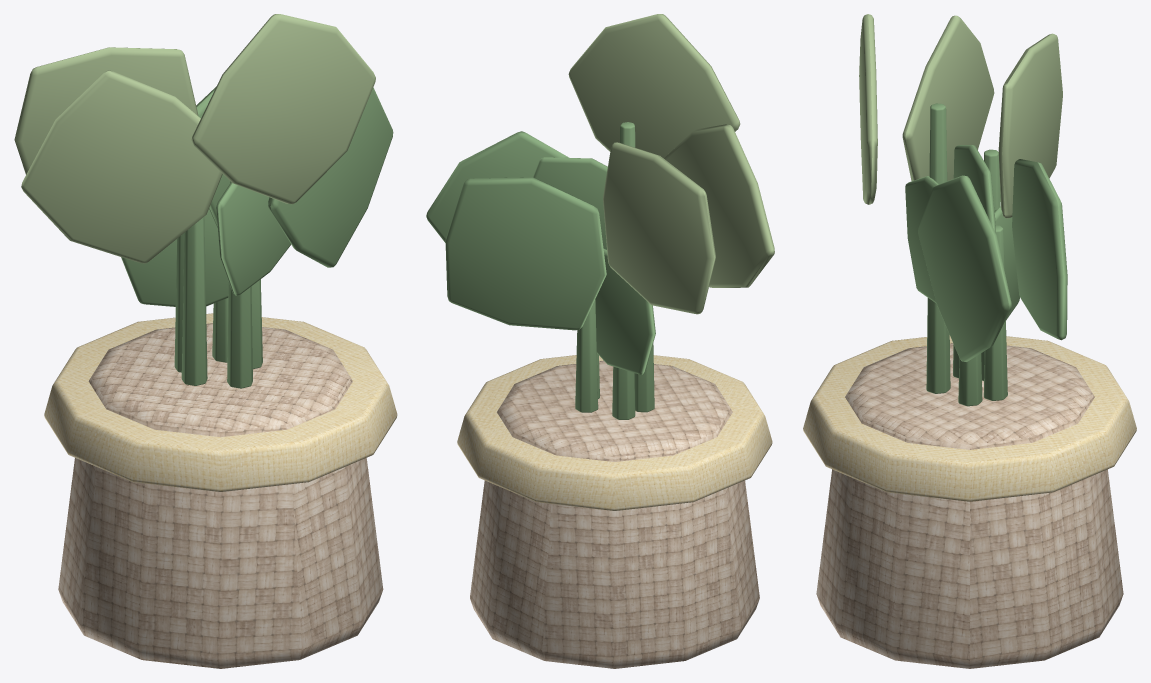
File: small-plant.glb
3 views of the same model, side by side, from view 1: azimuth 30°, elevation 25°; view 2: azimuth 150°, elevation 25°; view 3: azimuth 270°, elevation 25° (orthographic). The views are drawn at different scales.
Visible parts, largest first — view 1: small-plant; view 2: small-plant; view 3: small-plant.
Boxes of the visible parts, bbox=[...] form: small-plant: bbox=[14, 14, 397, 668]; small-plant: bbox=[426, 14, 774, 668]; small-plant: bbox=[803, 14, 1136, 668].
Size of the model in its own units: 0.2897 by 0.4606 by 0.2334.
Materials: 4 (2 with a texture image).
